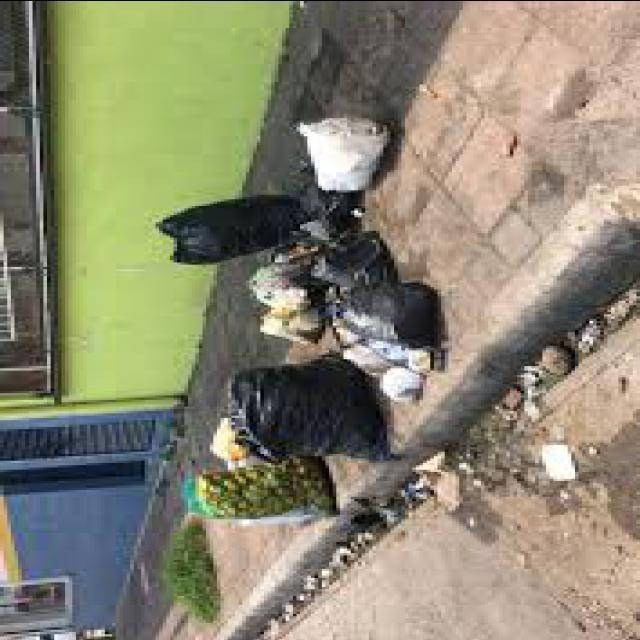Trashbag: (230, 348, 392, 466), (161, 191, 302, 266), (335, 279, 446, 346), (286, 226, 396, 283)
